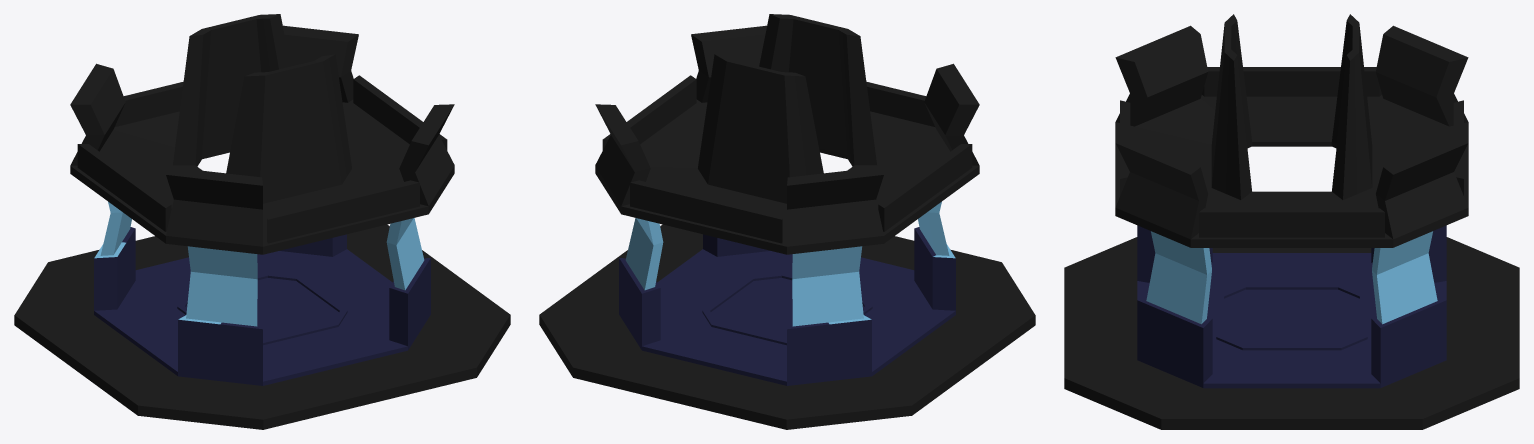
Rendered from TowerPlatform.glb.
The picture shows the model from 3 angles, left to right: view 1: azimuth 30°, elevation 25°; view 2: azimuth 150°, elevation 25°; view 3: azimuth 270°, elevation 25°; orthographic projection. The views are drawn at different scales.
Visible parts, largest first — view 1: Level2, Level1, Platform; view 2: Level2, Level1, Platform; view 3: Level2, Level1, Platform.
Part boxes in pixels (box(x1,y1,x2,y2)): Level2: box(70, 14, 454, 254); Level1: box(94, 201, 430, 385); Platform: box(14, 224, 510, 429); Level2: box(595, 14, 979, 254); Level1: box(619, 201, 955, 385); Platform: box(539, 224, 1035, 429); Level2: box(1115, 14, 1468, 247); Level1: box(1137, 225, 1446, 388); Platform: box(1064, 237, 1519, 429).
Size of the model in its own units: 20.45 by 14.69 by 20.45.
